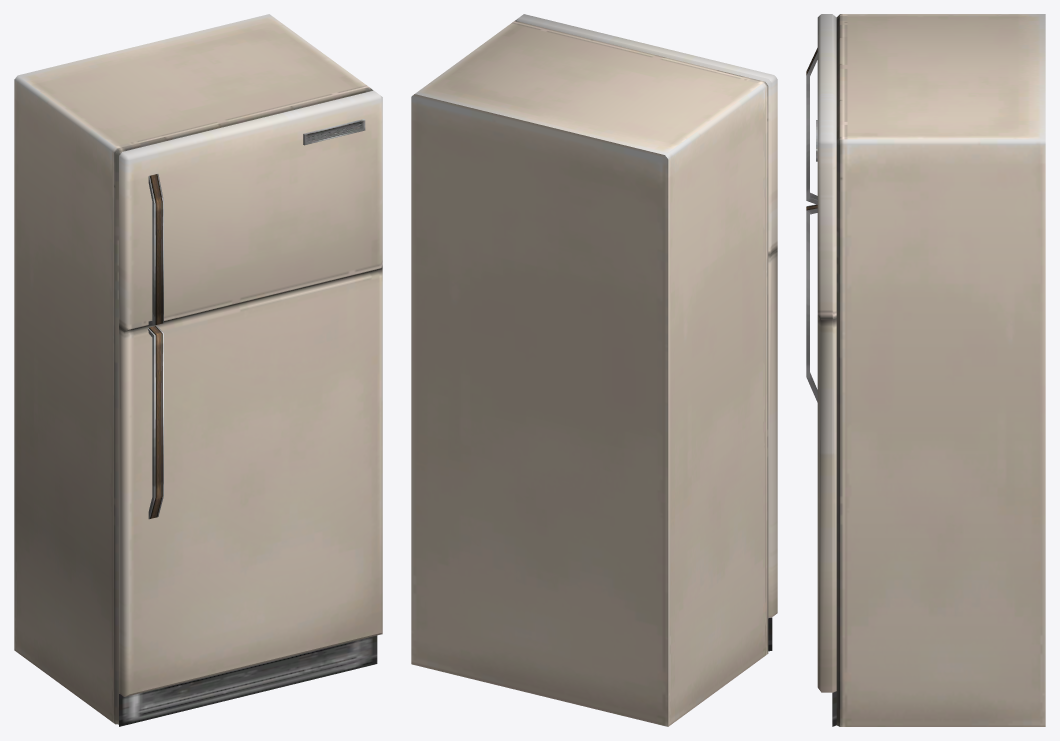
Rendered from fridge.fbx.
The picture shows the model from 3 angles, left to right: view 1: azimuth 30°, elevation 25°; view 2: azimuth 150°, elevation 25°; view 3: azimuth 270°, elevation 25°; orthographic projection. The views are drawn at different scales.
Parts seen in each view (by area): view 1: mesh_0; view 2: mesh_0; view 3: mesh_0.
Boxes of the visible parts, left/top/right/bottom form: mesh_0: left=14, top=14, right=382, bottom=726; mesh_0: left=411, top=14, right=777, bottom=726; mesh_0: left=806, top=14, right=1045, bottom=726.
Size of the model in its own units: 80.01 by 170 by 63.
1 material, 1 textured.
